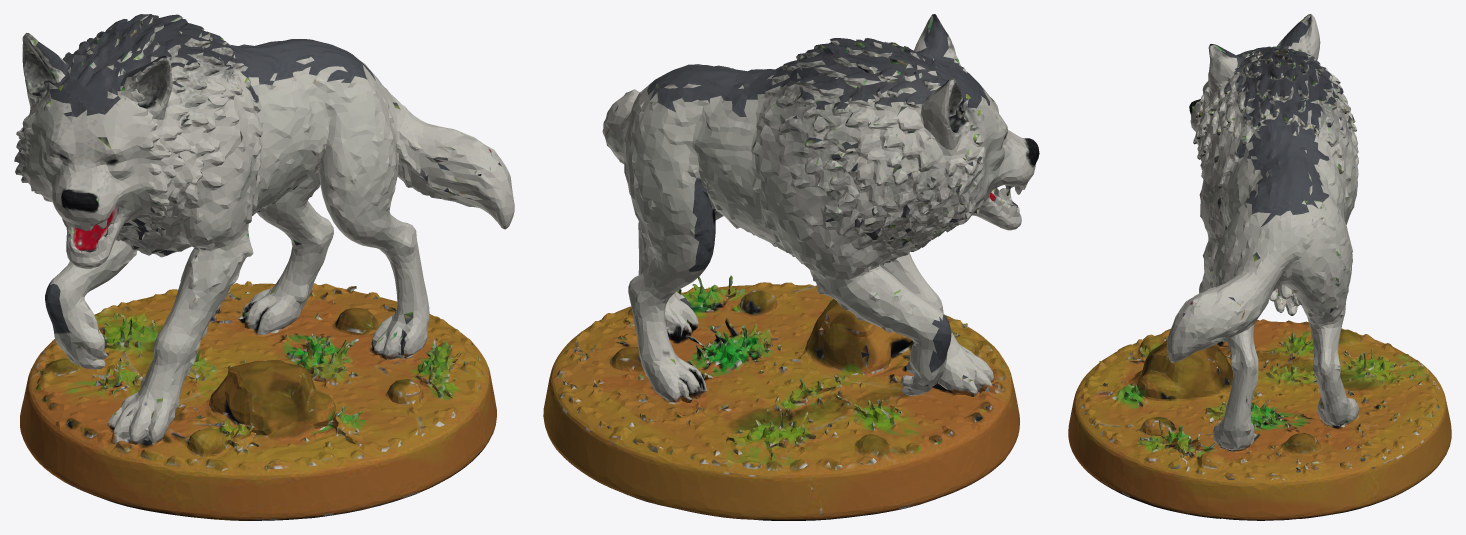
The model's file is lobo_alfa.glb.
The picture shows the model from 3 angles, left to right: view 1: azimuth 30°, elevation 25°; view 2: azimuth 150°, elevation 25°; view 3: azimuth 270°, elevation 25°; orthographic projection. The views are drawn at different scales.
Parts seen in each view (by area): view 1: tmpi9npmgii.ply; view 2: tmpi9npmgii.ply; view 3: tmpi9npmgii.ply.
Boxes of the visible parts, x1,y1,x2,y2 form: tmpi9npmgii.ply: (14,14,514,520); tmpi9npmgii.ply: (543,14,1039,520); tmpi9npmgii.ply: (1068,14,1451,520).
Bounding box in the file's own units: 1.96 × 1.82 × 1.83.
Materials: 1 (1 with a texture image).
